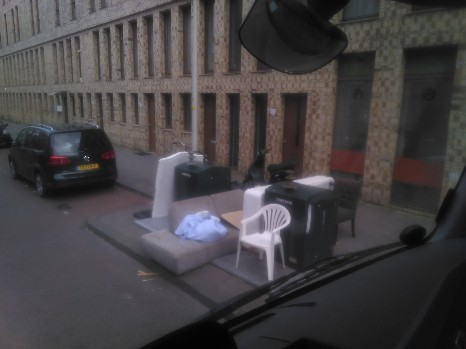Container: (274, 179, 327, 261), (183, 161, 224, 193)
Rest: (160, 189, 260, 262), (241, 199, 274, 276), (341, 180, 366, 241), (152, 151, 176, 211)
Voertuig: (11, 125, 127, 210), (247, 151, 289, 182)
